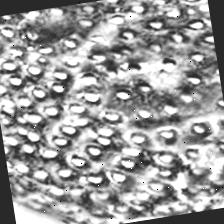Anthracnose Fruit Rot: (64, 0, 224, 139)
